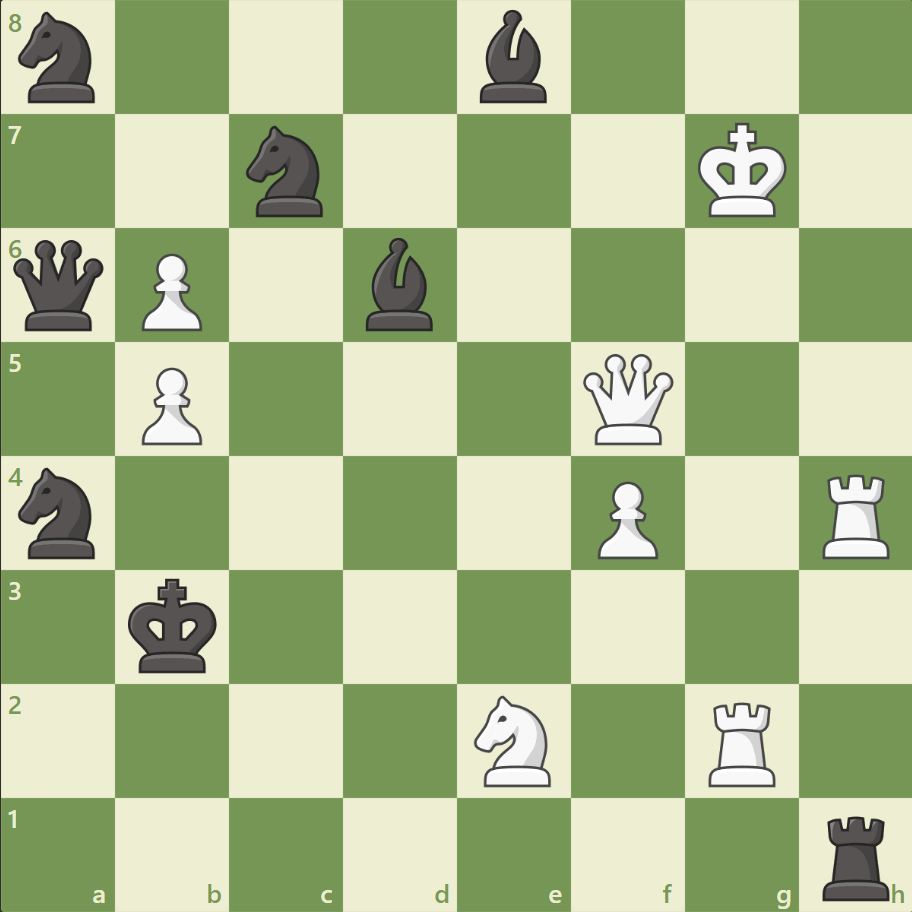K: (692, 117, 792, 225)
N: (465, 688, 562, 791)
P: (133, 246, 208, 337), (133, 359, 208, 450), (588, 473, 662, 564)
Q: (578, 349, 677, 449)
R: (814, 466, 897, 563), (700, 693, 783, 790)
b: (471, 6, 555, 109), (358, 233, 442, 336)
k: (124, 571, 224, 679)
n: (11, 7, 108, 110), (11, 461, 108, 564), (238, 121, 335, 223)
q: (10, 236, 109, 335)
r: (814, 806, 897, 904)
